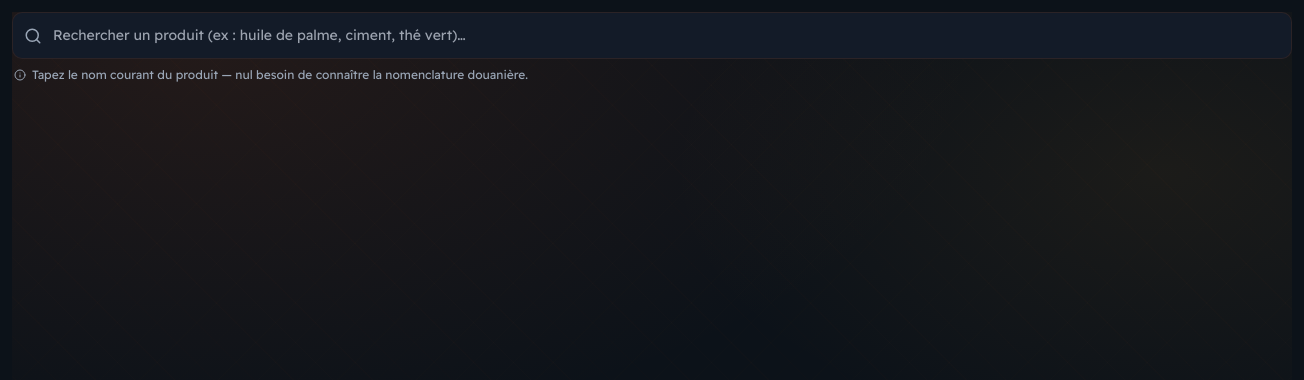
Test: ProductHSSearch › affiche le produit et ses codes SH depuis l’index OMD
The image size is (1304, 380).
Type "huile de palme" into the field with test id "product-hs-input" at (652, 36), box [12,12,1292,59]
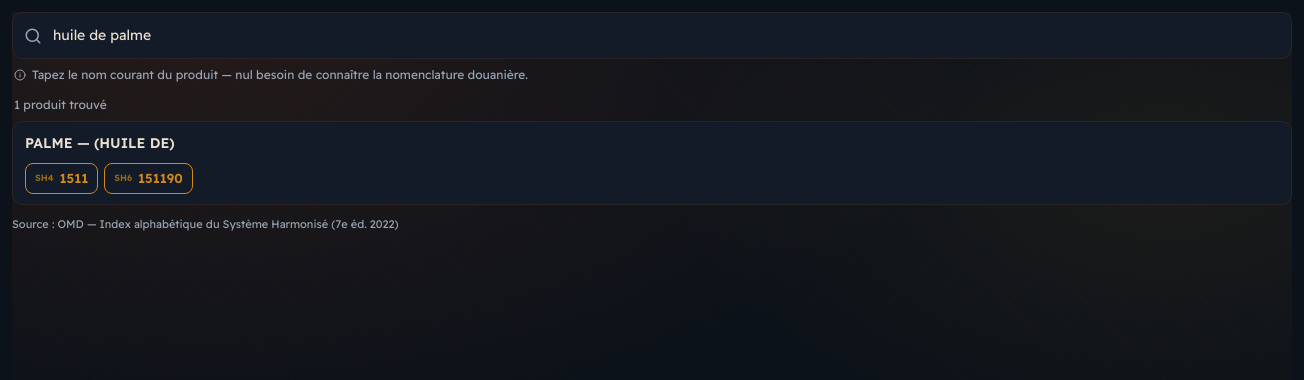
Now the text "PALME — (HUILE DE)" is shown, box [25,134,175,152]
Now the button "SH4 1511" is shown, box [25,163,98,194]
Now the button "SH6 151190" is shown, box [104,163,193,194]
